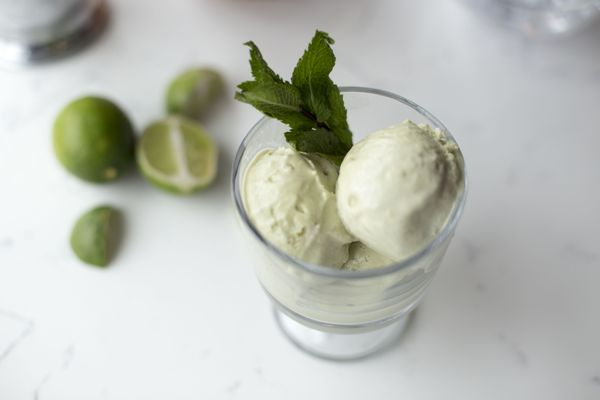pizza: (231, 101, 467, 362), (0, 0, 108, 60)
